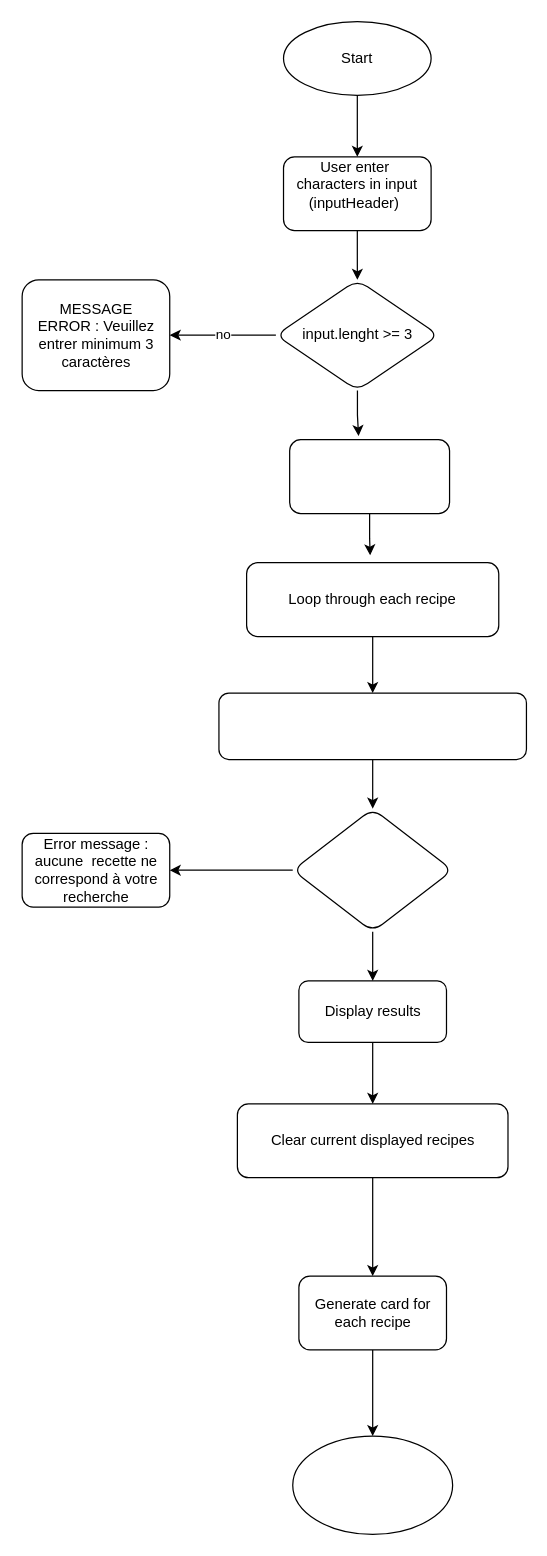
The diagram is 547 pixels wide and 1556 high, and some of its shapes have lost their labels. Here are the shapes that lost their labels. From the top down, the box of each, then its label:
(288, 438, 450, 514): input convert to lowercase
(218, 692, 526, 760): Check if queryWord matches recipe name, description, or ingredients
(292, 807, 453, 932): if matchsQuery
(292, 1435, 453, 1534): End
